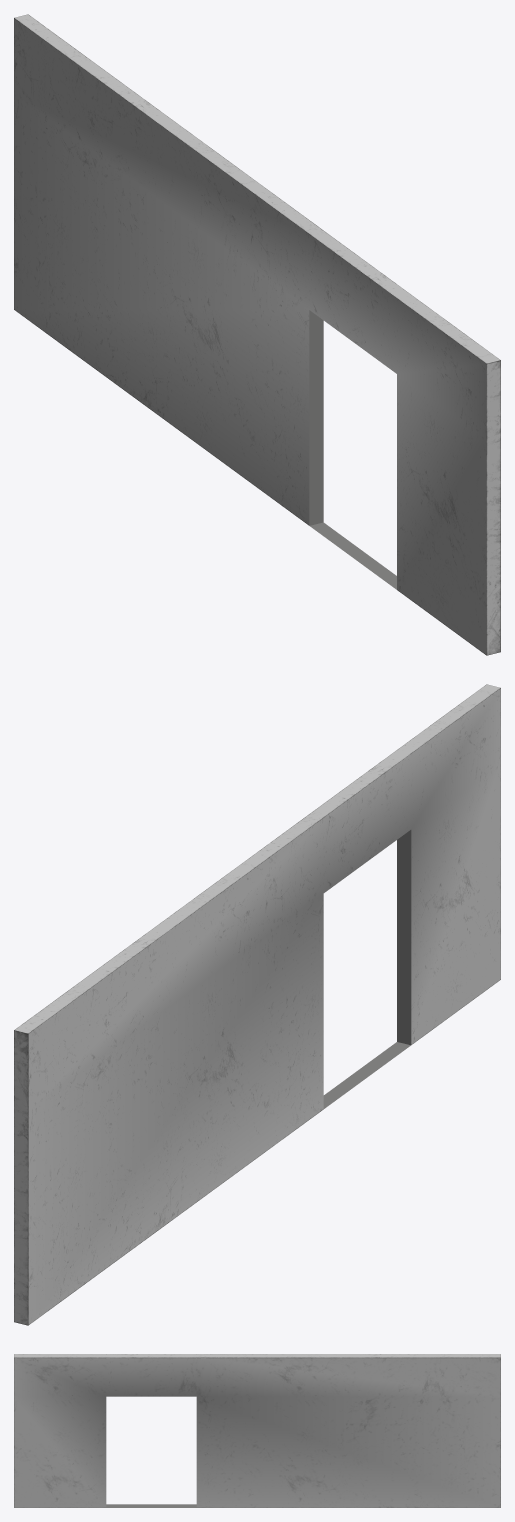
Rendered from Aslan_Wall_SectretDoor.fbx.
3 views of the same model, one above another, from view 1: azimuth 30°, elevation 25°; view 2: azimuth 150°, elevation 25°; view 3: azimuth 270°, elevation 25° (orthographic). The views are drawn at different scales.
Visible parts, largest first — view 1: Plane.002; view 2: Plane.002; view 3: Plane.002.
Boxes of the visible parts, box(x1,y1,x2,y2) form: Plane.002: box(14, 14, 500, 655); Plane.002: box(14, 684, 500, 1325); Plane.002: box(14, 1354, 500, 1507).
Bounding box in the file's own units: 16.96 × 330 × 969.
Materials: 1 (1 with a texture image).
